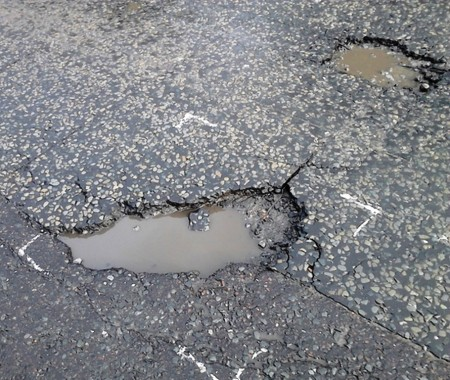pothole: (31, 180, 336, 310), (318, 11, 448, 117)
